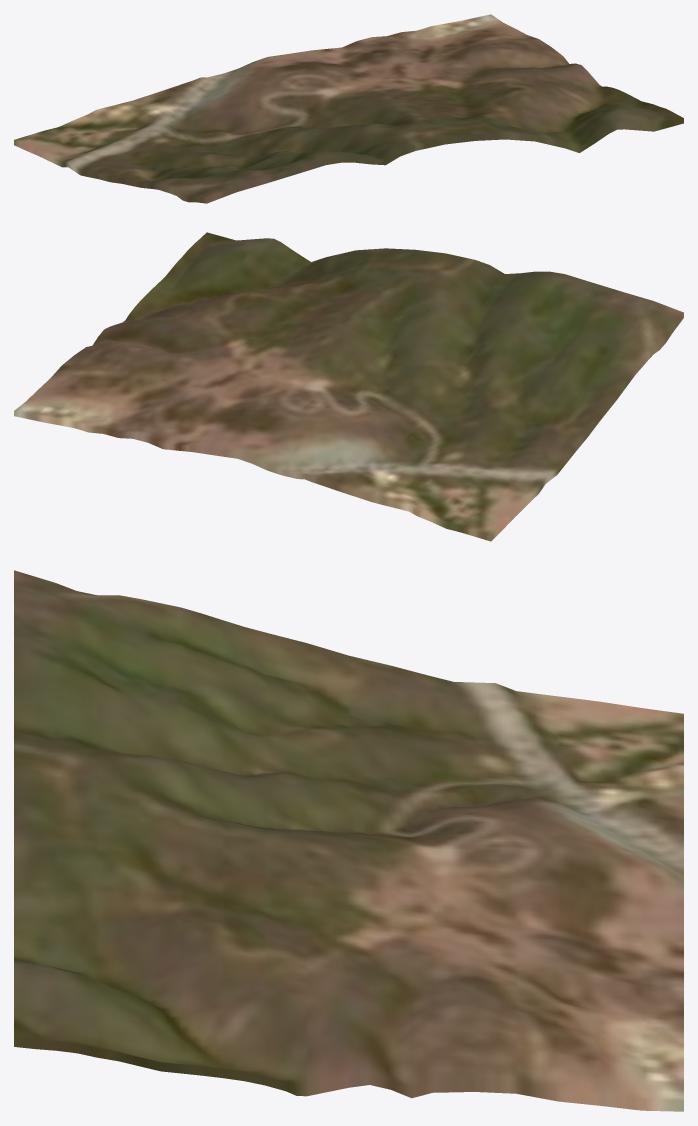
Rendered from terrain_r7_c4_lod2.glb.
3 renders of one model, top to bottom at view 1: azimuth 30°, elevation 25°; view 2: azimuth 150°, elevation 25°; view 3: azimuth 270°, elevation 25°, orthographic. The views are drawn at different scales.
Parts seen in each view (by area): view 1: terrain_r7_c4_lod2; view 2: terrain_r7_c4_lod2; view 3: terrain_r7_c4_lod2.
Boxes of the visible parts, x1,y1,x2,y2 form: terrain_r7_c4_lod2: (14,14,683,203); terrain_r7_c4_lod2: (14,232,683,541); terrain_r7_c4_lod2: (14,570,683,1111).
Size of the model in its own units: 1125 by 219 by 787.
1 material, 1 textured.
